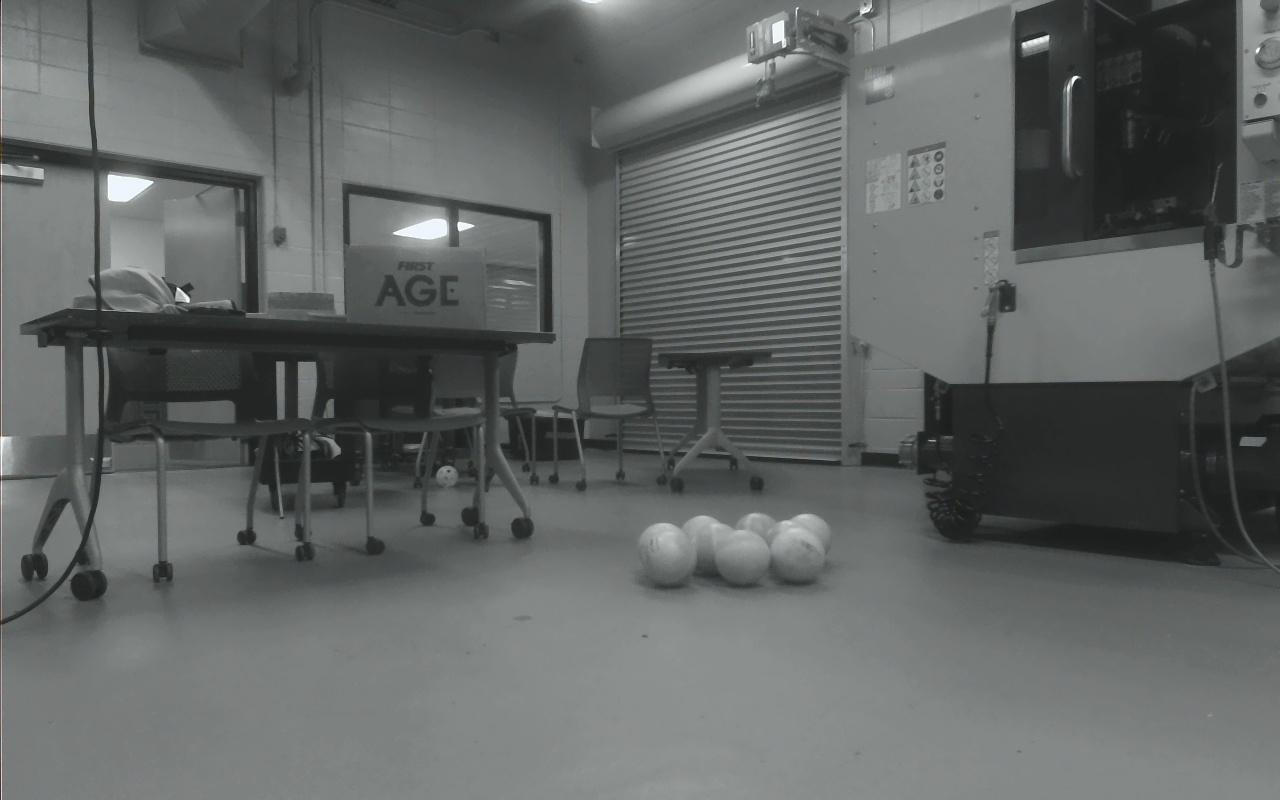Fuel: (714, 529, 772, 587), (641, 529, 698, 588), (769, 528, 826, 585), (694, 522, 740, 578), (637, 522, 686, 574), (764, 519, 814, 568), (680, 515, 723, 568), (788, 513, 832, 560), (735, 512, 778, 548)
